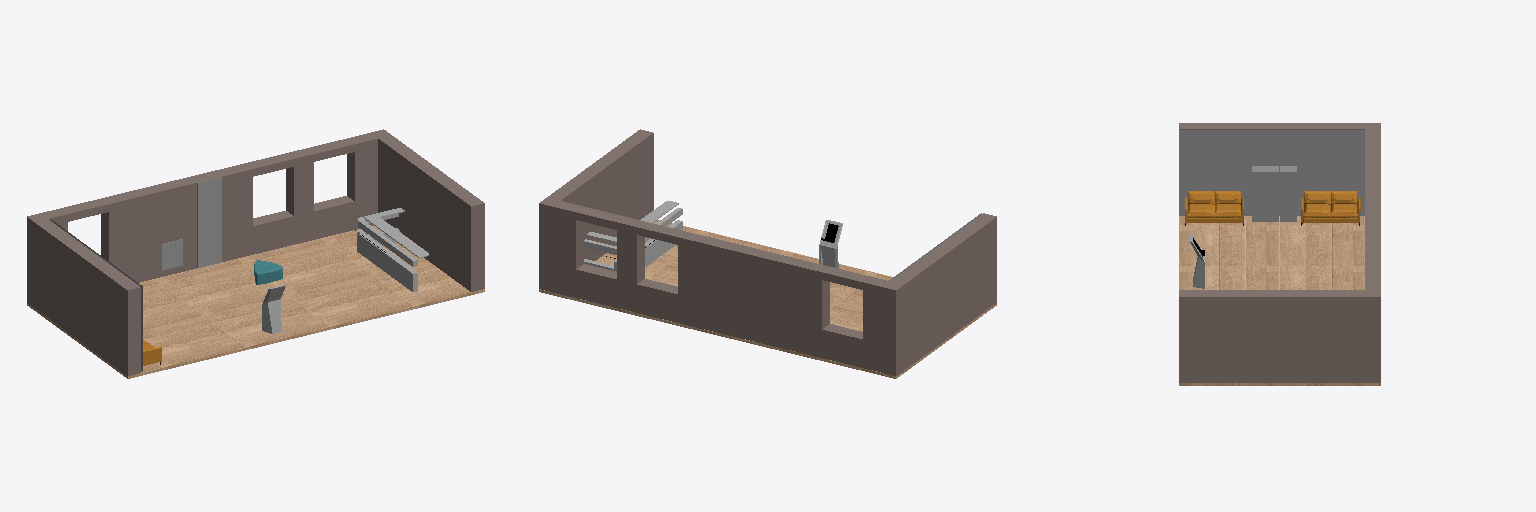
The picture shows the model from 3 angles: view 1: azimuth 30°, elevation 25°; view 2: azimuth 150°, elevation 25°; view 3: azimuth 270°, elevation 25°; orthographic projection.
Parts seen in each view (by area): view 1: Group_1071, Box003, Rectangle1, L-Ext007, Group_001, Box101, Object9429, Cylinder14.Cylinder10.Cylinder11_Cylinder14, Rectangle3; view 2: Group_1071, Box003, Group_001, L-Ext007; view 3: Group_1071, Box003, wallPaint, Box437, Box444, Plane2587, Plane2588.
Part boxes in pixels (bbox=[...]): Group_1071: bbox=[27, 129, 484, 375]; Box003: bbox=[27, 225, 484, 378]; Rectangle1: bbox=[197, 177, 221, 267]; L-Ext007: bbox=[357, 228, 417, 291]; Group_001: bbox=[262, 285, 285, 333]; Box101: bbox=[364, 208, 428, 257]; Object9429: bbox=[358, 209, 417, 266]; Cylinder14.Cylinder10.Cylinder11_Cylinder14: bbox=[254, 260, 282, 284]; Rectangle3: bbox=[162, 239, 182, 270]; Group_1071: bbox=[539, 129, 996, 375]; Box003: bbox=[539, 220, 996, 378]; Group_001: bbox=[819, 220, 842, 268]; L-Ext007: bbox=[584, 220, 682, 271]; Group_1071: bbox=[1179, 123, 1380, 382]; Box003: bbox=[1179, 216, 1380, 385]; wallPaint: bbox=[1179, 130, 1364, 215]; Box437: bbox=[1301, 191, 1360, 225]; Box444: bbox=[1185, 191, 1243, 225]; Plane2587: bbox=[1252, 166, 1278, 221]; Plane2588: bbox=[1280, 166, 1296, 221].
Bounding box in the file's own units: 1.31 × 0.3224 × 0.64.
Materials: 18 (1 with a texture image).